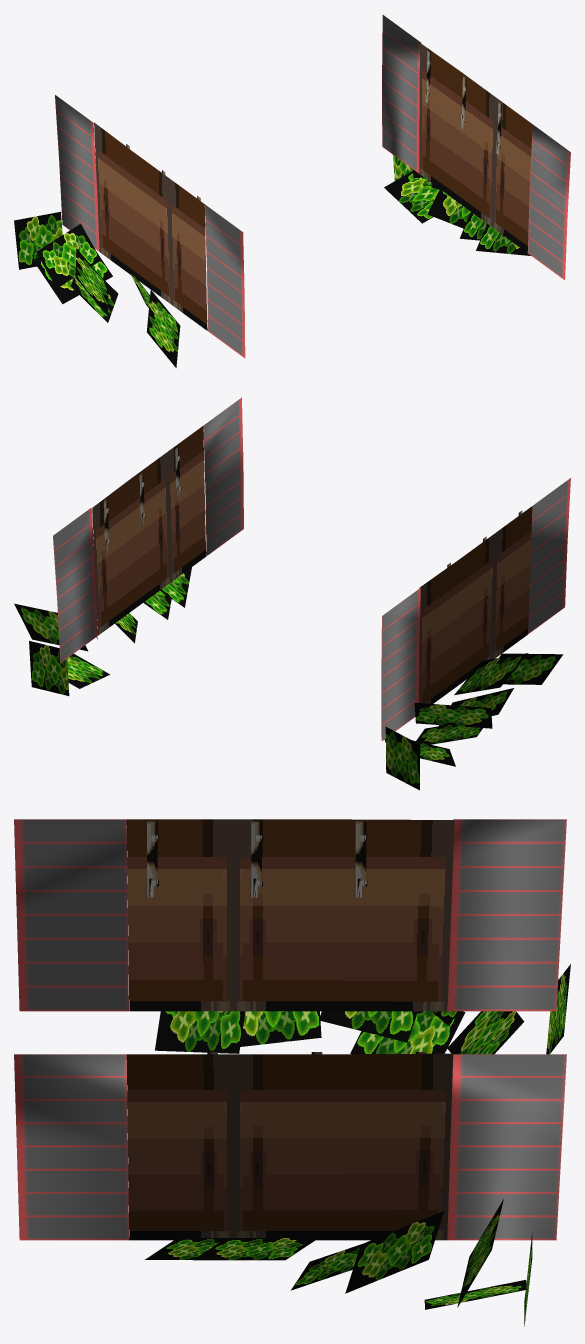
The picture shows the model from 3 angles, top to bottom: view 1: azimuth 30°, elevation 25°; view 2: azimuth 150°, elevation 25°; view 3: azimuth 270°, elevation 25°; orthographic projection. The views are drawn at different scales.
Visible parts, largest first — view 1: m00_kb6; view 2: m00_kb6; view 3: m00_kb6.
Part boxes in pixels (bbox=[...]): m00_kb6: bbox=[14, 15, 570, 367]; m00_kb6: bbox=[14, 397, 570, 790]; m00_kb6: bbox=[14, 819, 570, 1326].
Bounding box in the file's own units: 7.41 × 2.67 × 5.34.
Materials: 5 (5 with a texture image).
